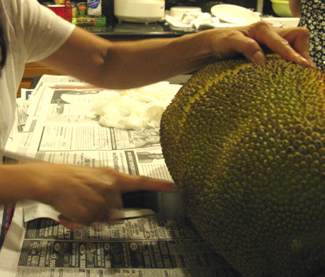jackfruit: (159, 57, 324, 276)
